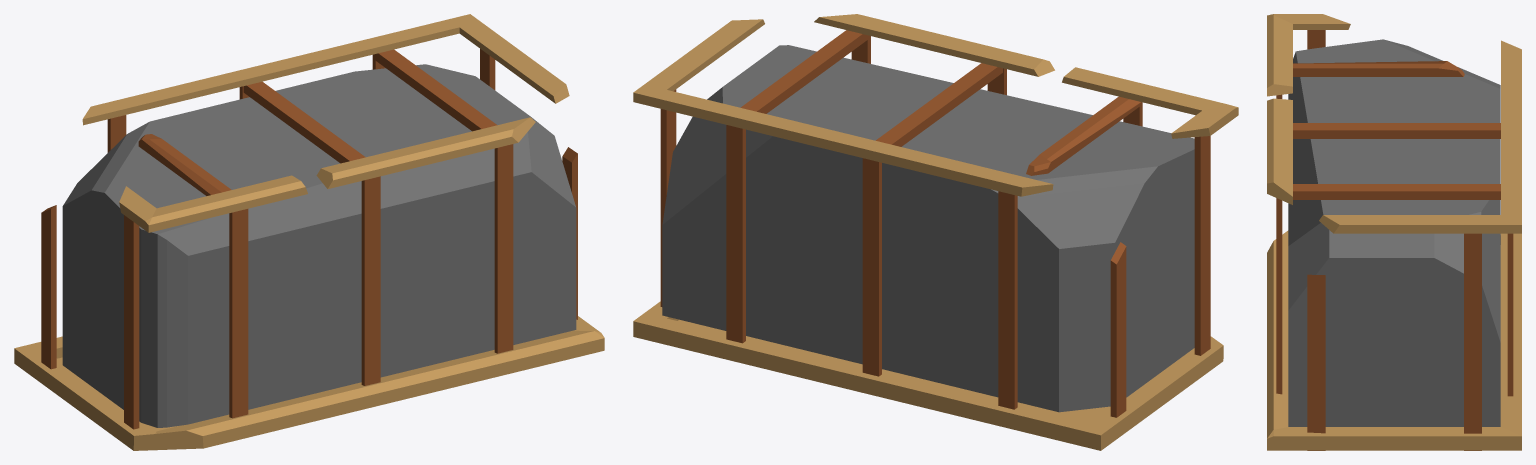
3 views of the same model, side by side, from view 1: azimuth 30°, elevation 25°; view 2: azimuth 150°, elevation 25°; view 3: azimuth 270°, elevation 25° (orthographic). The views are drawn at different scales.
Visible parts, largest first — view 1: Cube.078, Cube.090, Cube.094, Cube.083, Cube.085, Cube.084, Cube.088, Cube.091, Cube.092, Cube.089, Cube.087, Cube.086; view 2: Cube.078, Cube.090, Cube.094, Cube.081, Cube.082, Cube.080, Cube.088, Cube.089, Cube.091, Cube.092, Cube.087, Cube.093; view 3: Cube.078, Cube.090, Cube.094, Cube.093, Cube.091, Cube.092, Cube.086, Cube.087, Cube.084, Cube.081, Cube.088.
Boxes of the visible parts, box(x1,y1,x2,y2) form: Cube.078: box(62, 64, 576, 427); Cube.090: box(82, 14, 569, 232); Cube.094: box(14, 316, 604, 450); Cube.083: box(229, 209, 248, 418); Cube.085: box(361, 176, 380, 385); Cube.084: box(494, 144, 513, 353); Cube.088: box(124, 215, 139, 429); Cube.091: box(374, 49, 497, 131); Cube.092: box(243, 81, 365, 163); Cube.089: box(41, 205, 56, 369); Cube.087: box(138, 134, 231, 195); Cube.086: box(562, 147, 577, 319); Cube.078: box(662, 45, 1194, 412); Cube.090: box(633, 14, 1238, 196); Cube.094: box(633, 301, 1223, 450); Cube.081: box(726, 125, 745, 343); Cube.082: box(862, 158, 881, 376); Cube.080: box(998, 191, 1017, 409); Cube.088: box(1194, 136, 1210, 355); Cube.089: box(1110, 242, 1126, 417); Cube.091: box(740, 30, 869, 113); Cube.092: box(876, 63, 1002, 146); Cube.087: box(1026, 96, 1141, 175); Cube.093: box(660, 89, 676, 306); Cube.078: box(1288, 39, 1500, 426); Cube.090: box(1267, 14, 1521, 233); Cube.094: box(1267, 230, 1521, 450); Cube.093: box(1464, 233, 1481, 450); Cube.091: box(1293, 184, 1500, 199); Cube.092: box(1293, 123, 1500, 138); Cube.086: box(1307, 274, 1325, 450); Cube.087: box(1293, 61, 1464, 76); Cube.084: box(1276, 198, 1282, 394); Cube.081: box(1507, 233, 1513, 396); Cube.088: box(1307, 30, 1325, 49).
Size of the model in its own units: 397 by 202 by 203.
